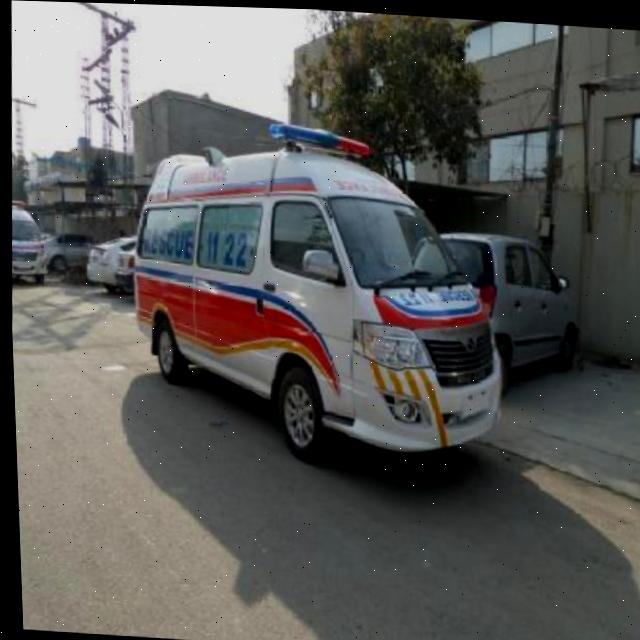emergency: (119, 111, 514, 473)
